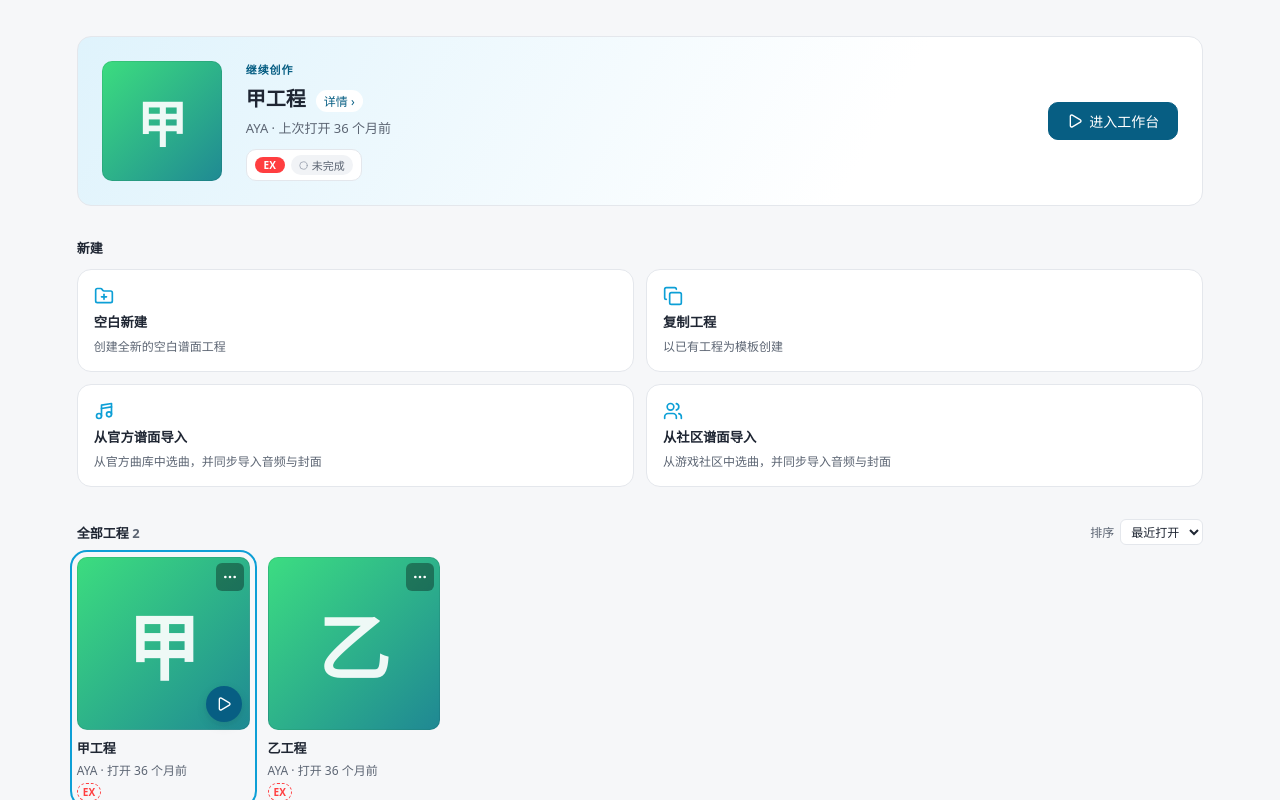
Test: 票 39 · 账号区落在哪儿（Q13 / Q24 / Q11） › 详情视图：未登录 → 账号行写「登录」，点它开登录弹窗
The width and height of the screenshot is (1280, 800).
Expected: the element showing "甲 甲工程 AYA · 打开 36 个月前 EX" is shown, [77, 557, 250, 799]
Click the text "甲工程" at [96, 748], box [77, 739, 116, 757]
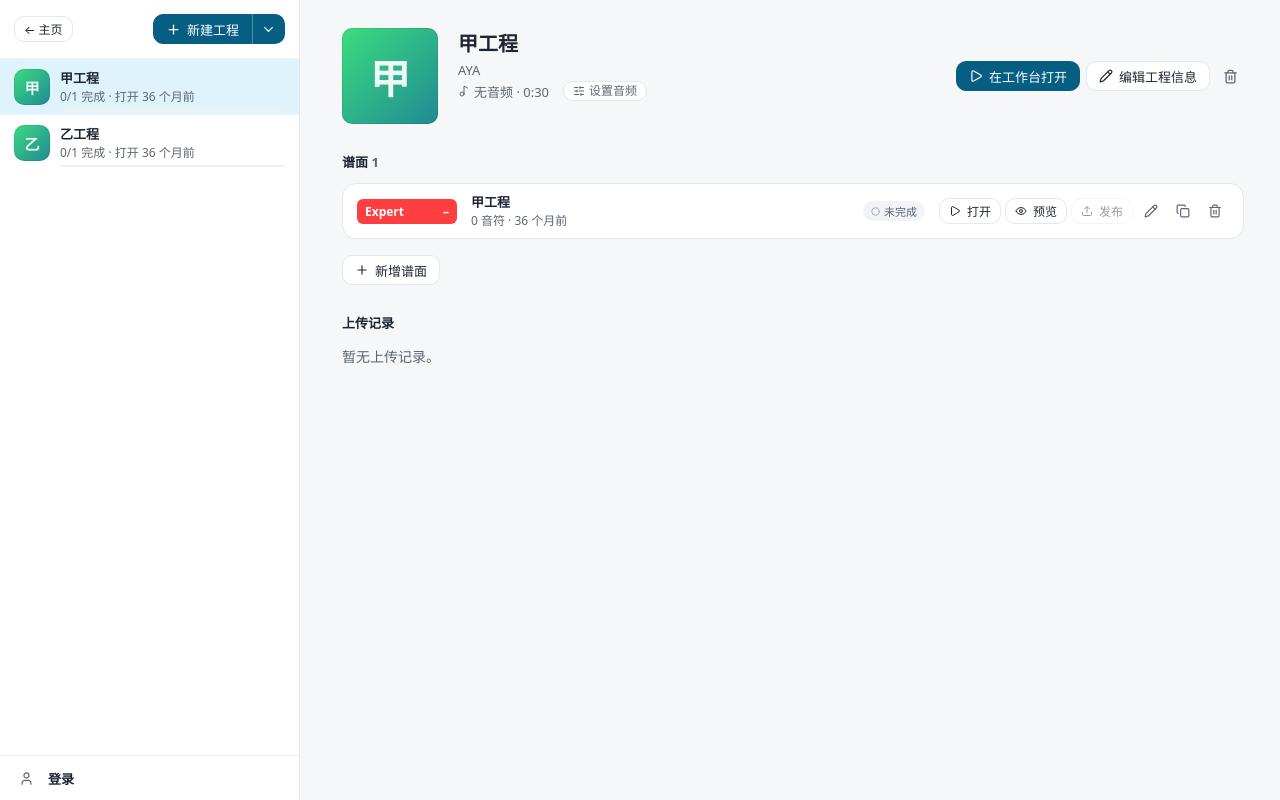
Result: the element showing "登录" is shown
Result: the button "登录" is shown
Click the button "登录" at [26, 778], box [0, 756, 299, 799]
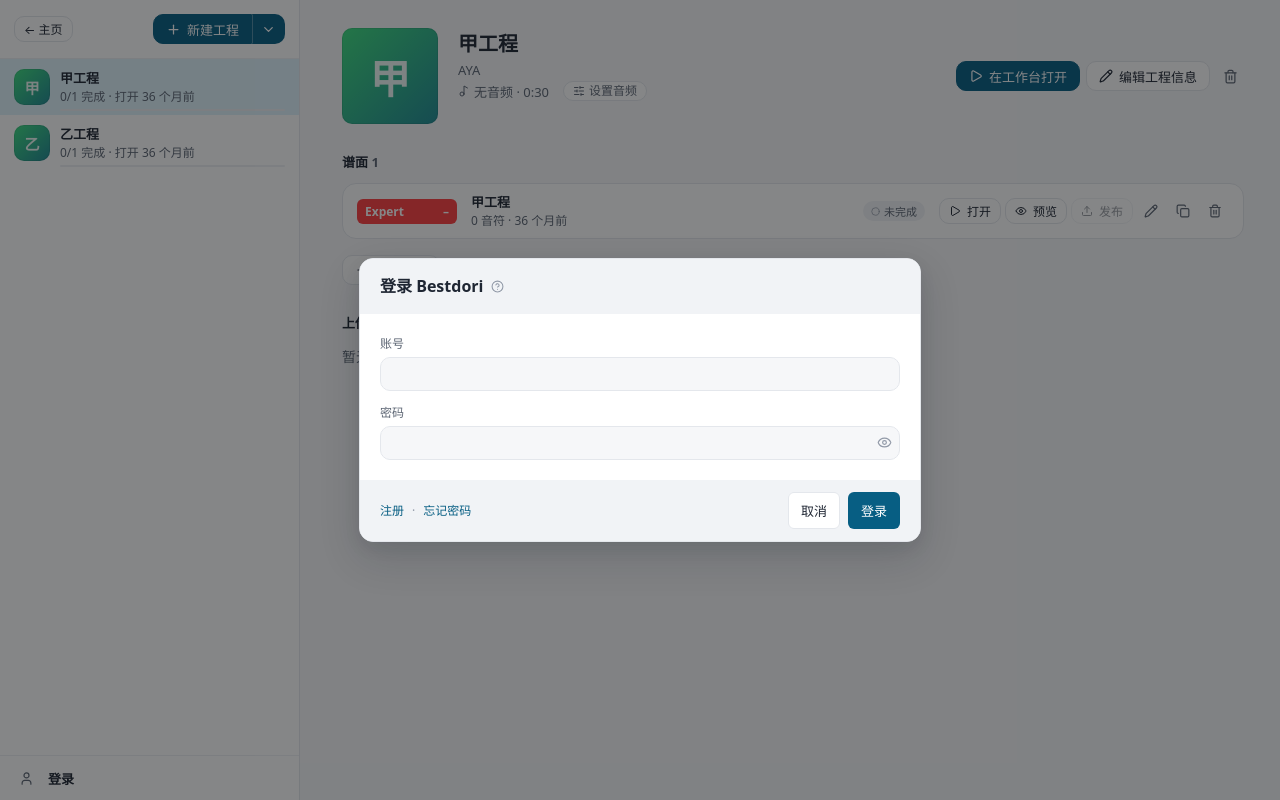
Result: the dialog is shown at [359, 258, 921, 542]
